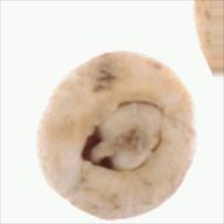L3: (83, 99, 166, 170)
L4: (38, 51, 196, 220)
